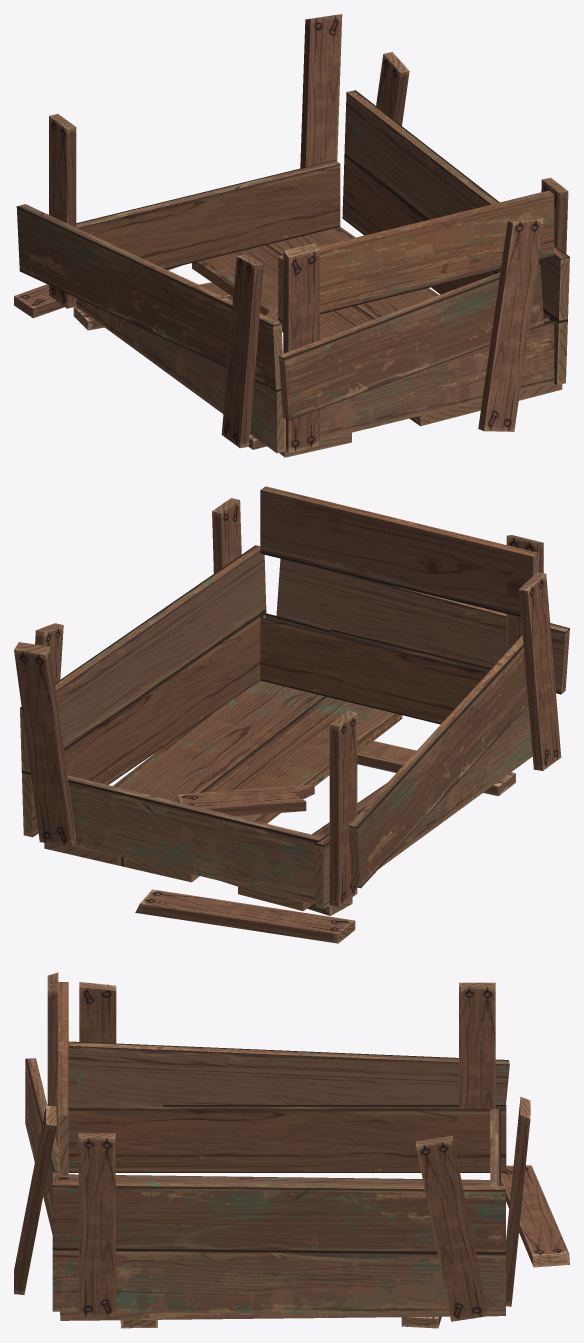
File: crate01_C.fbx
3 renders of one model, top to bottom at view 1: azimuth 30°, elevation 25°; view 2: azimuth 150°, elevation 25°; view 3: azimuth 270°, elevation 25°, orthographic.
Parts seen in each view (by area): view 1: crate01_C; view 2: crate01_C; view 3: crate01_C.
Part boxes in pixels (bbox=[...]): crate01_C: bbox=[14, 14, 569, 457]; crate01_C: bbox=[14, 486, 569, 943]; crate01_C: bbox=[14, 972, 569, 1328].
Size of the model in its own units: 77.03 by 46.46 by 105.
